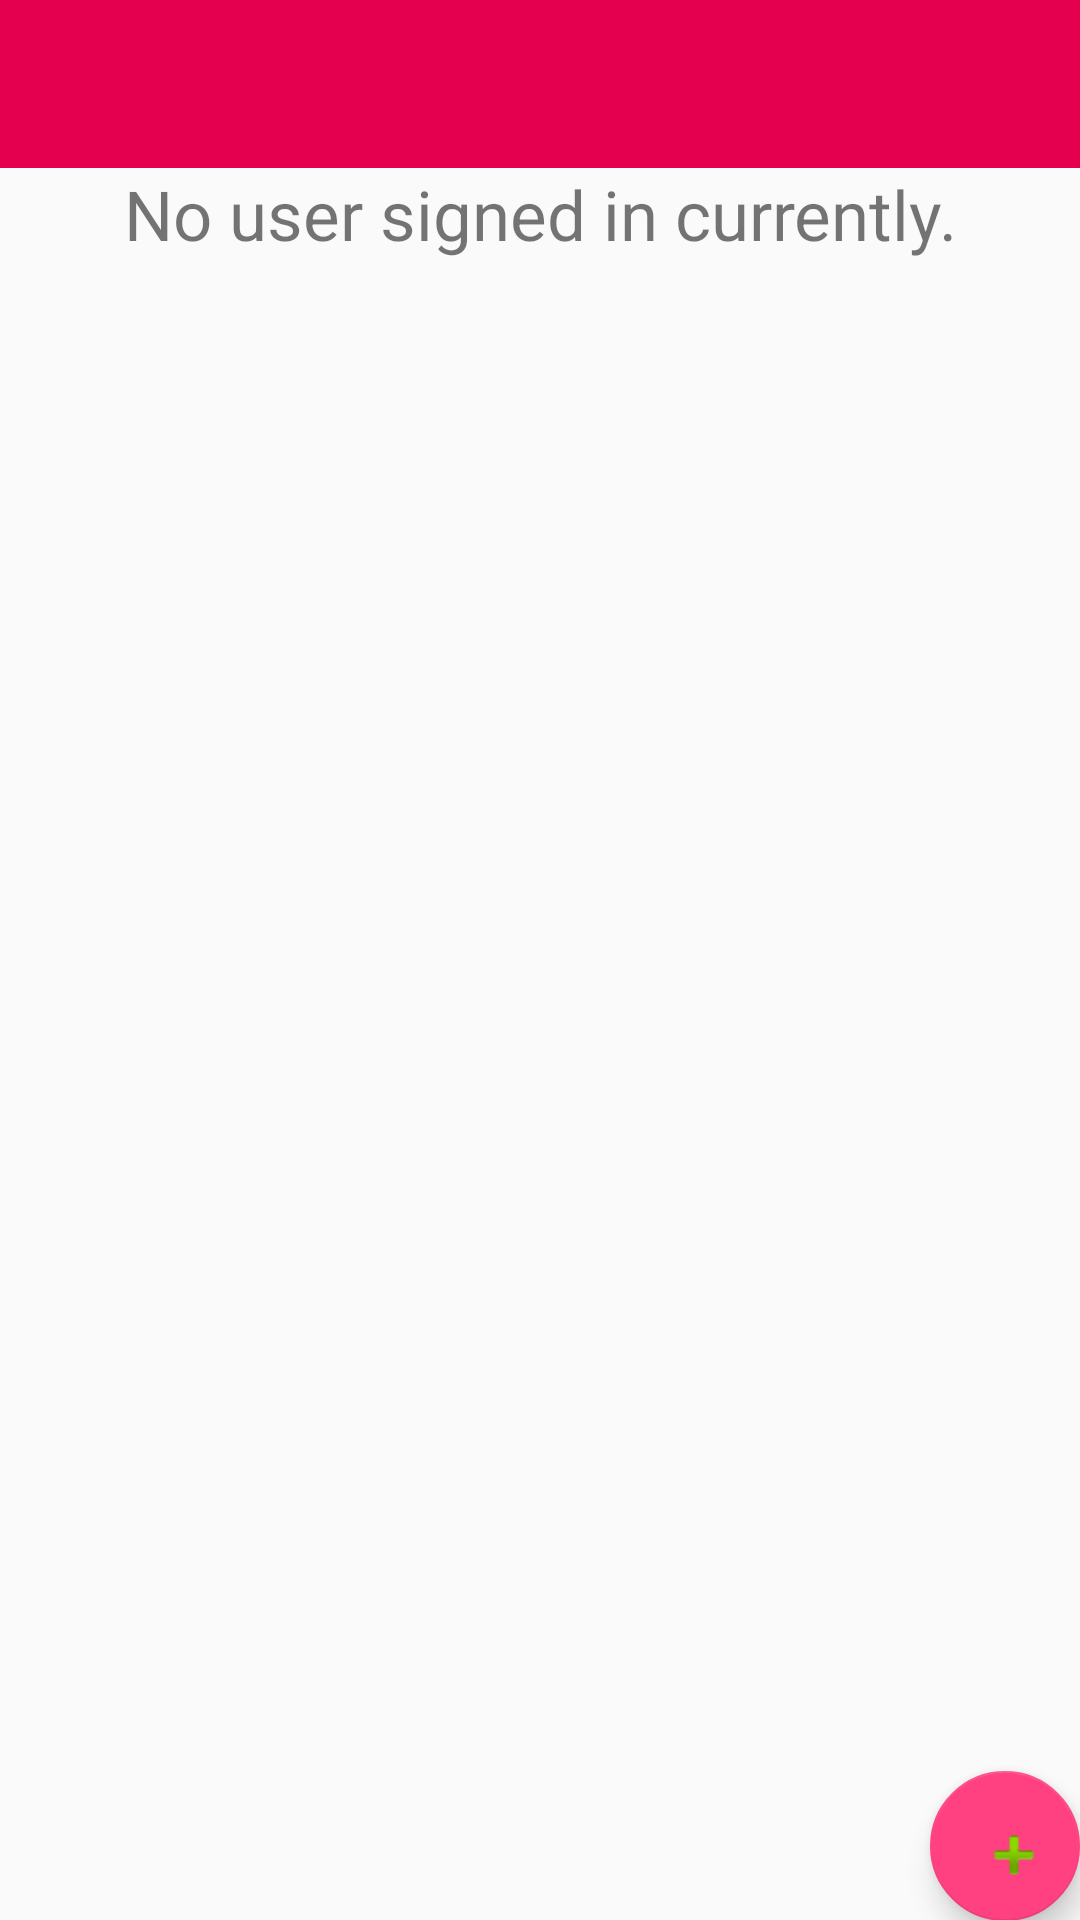

Point at icon controls on the screen. Image size 1080*1920, points as (x,y).
add: (1005,1845)
